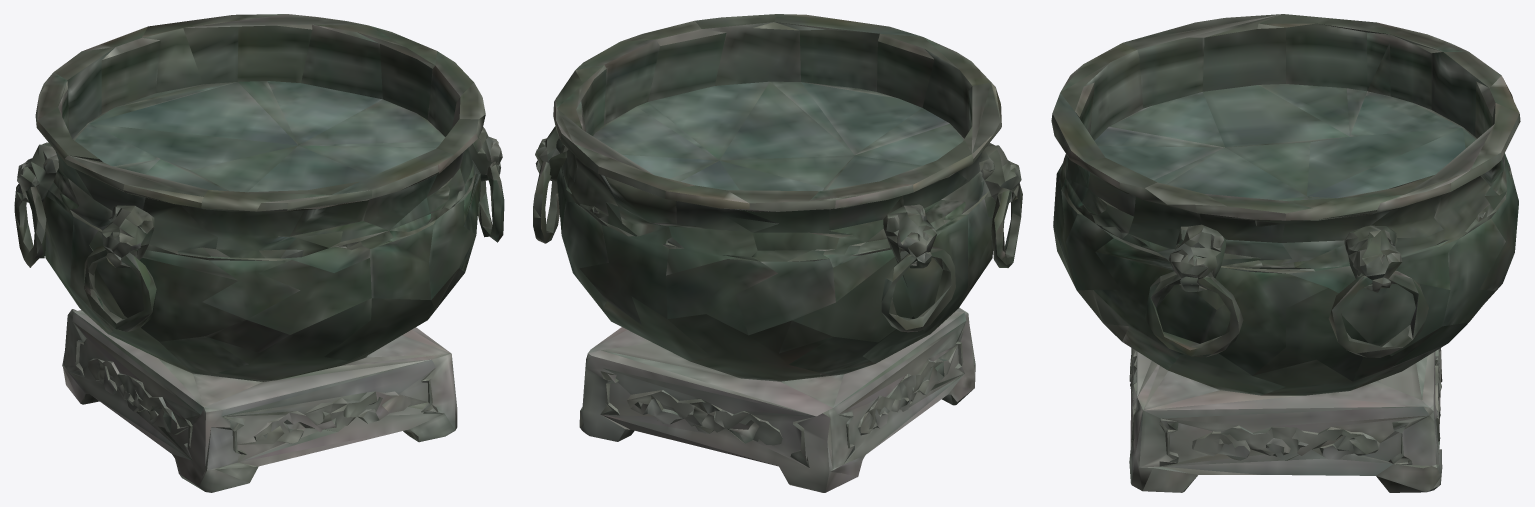
The model's file is deumu.glb.
3 renders of one model, left to right at view 1: azimuth 30°, elevation 25°; view 2: azimuth 150°, elevation 25°; view 3: azimuth 270°, elevation 25°, orthographic. The views are drawn at different scales.
Bounding box in the file's own units: 1.9 × 1.37 × 1.83.
Materials: 1 (1 with a texture image).
